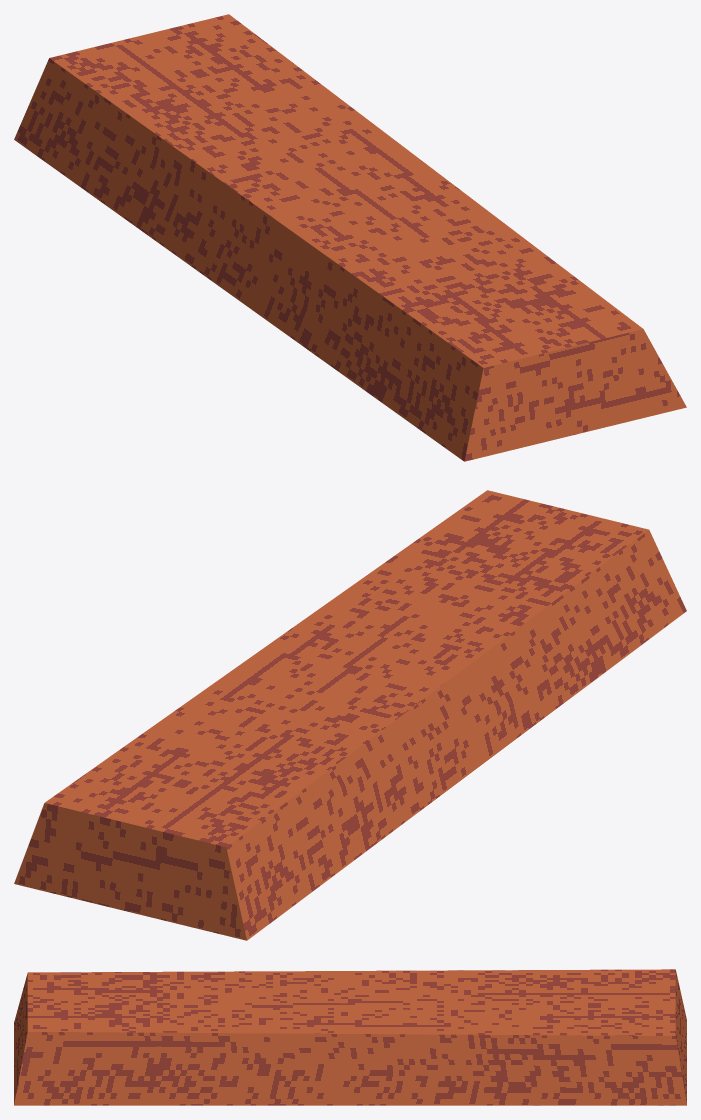
File: wood.glb
3 renders of one model, top to bottom at view 1: azimuth 30°, elevation 25°; view 2: azimuth 150°, elevation 25°; view 3: azimuth 270°, elevation 25°, orthographic. The views are drawn at different scales.
Parts seen in each view (by area): view 1: Cube; view 2: Cube; view 3: Cube.
Part boxes in pixels (x1,y1,x2,y2): Cube: (14,14,686,461); Cube: (14,490,686,940); Cube: (14,969,686,1105).
Size of the model in its own units: 0.3005 by 0.1 by 1.
1 material, 1 textured.
